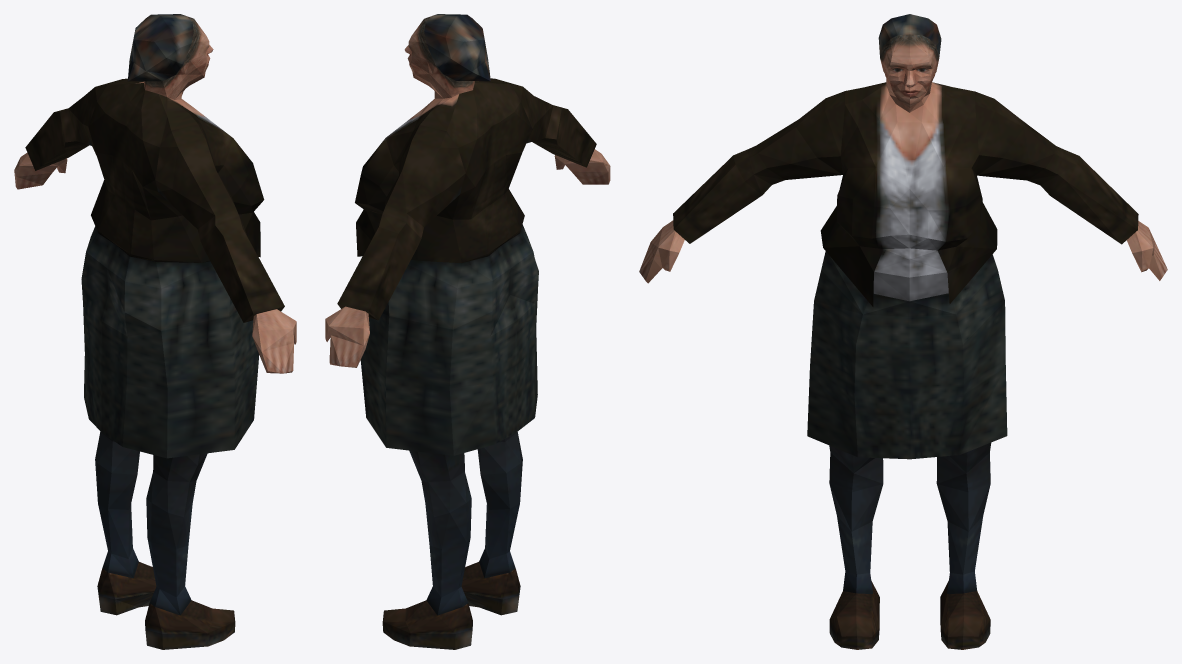
File: hfost.obj
The picture shows the model from 3 angles, left to right: view 1: azimuth 30°, elevation 25°; view 2: azimuth 150°, elevation 25°; view 3: azimuth 270°, elevation 25°; orthographic projection. The views are drawn at different scales.
Parts seen in each view (by area): view 1: _Pelvis; view 2: _Pelvis; view 3: _Pelvis.
Boxes of the visible parts, bbox=[...] form: _Pelvis: bbox=[14, 14, 296, 649]; _Pelvis: bbox=[325, 14, 610, 649]; _Pelvis: bbox=[639, 14, 1167, 649].
Size of the model in its own units: 0.4173 by 1.65 by 1.28.
Materials: 1 (1 with a texture image).
